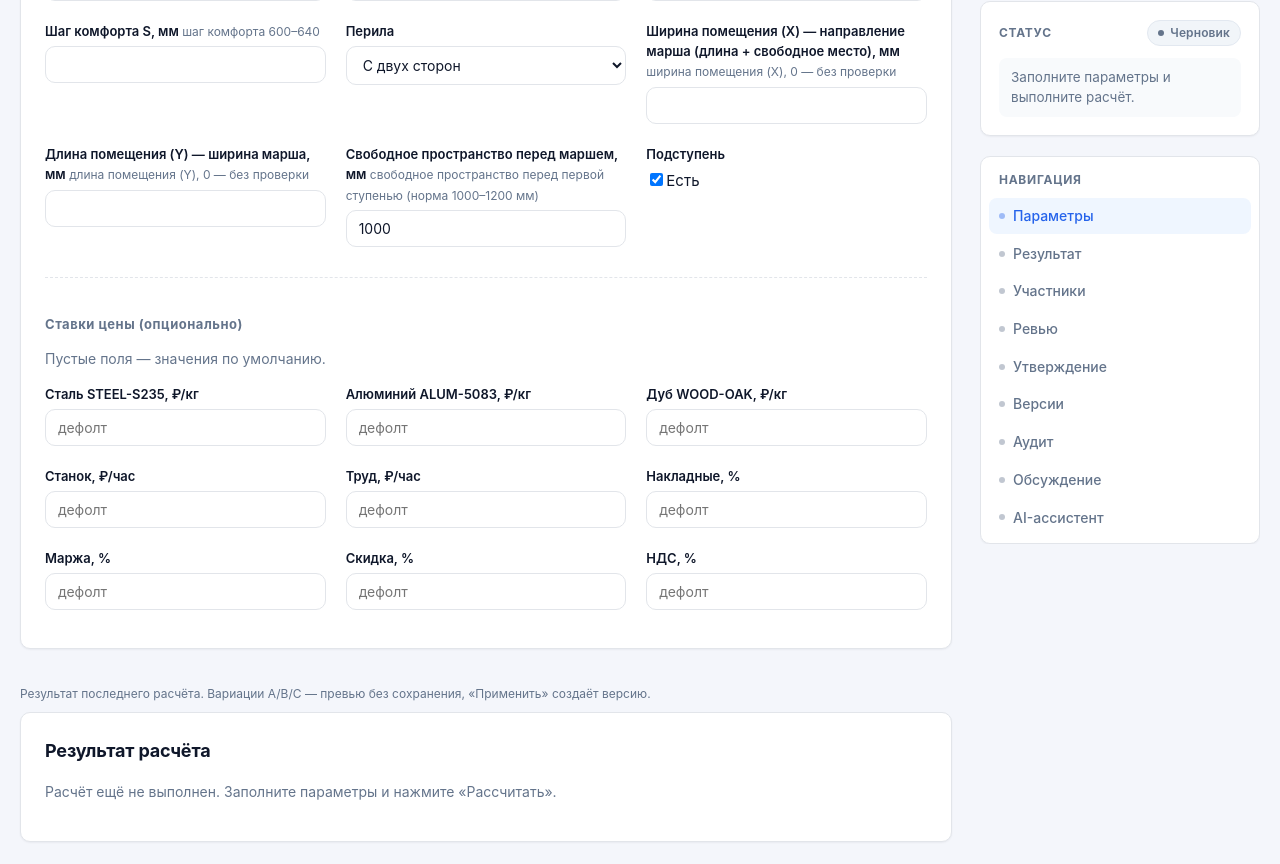
Scenario: ProjectDetail › включает rates в тело расчёта при заполненных ставках
This screenshot has width=1280, height=864.
(page scrolled)
Type "200" into the number field labelled "Сталь STEEL-S235, ₽/кг".
click(185, 428); type("200")  # box [45,409,326,446]
(page scrolled)
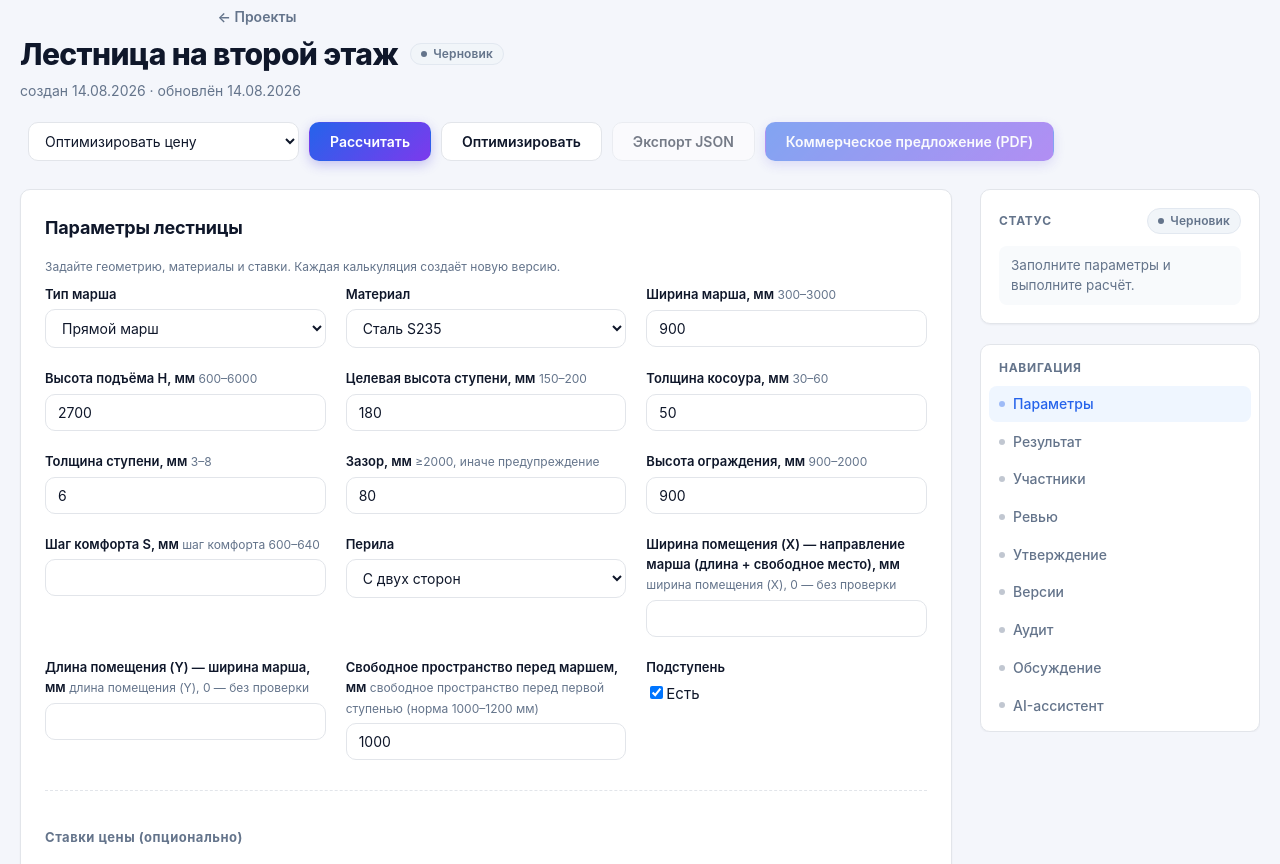
Click the button "Рассчитать".
click(370, 141)  # box [309,122,431,161]
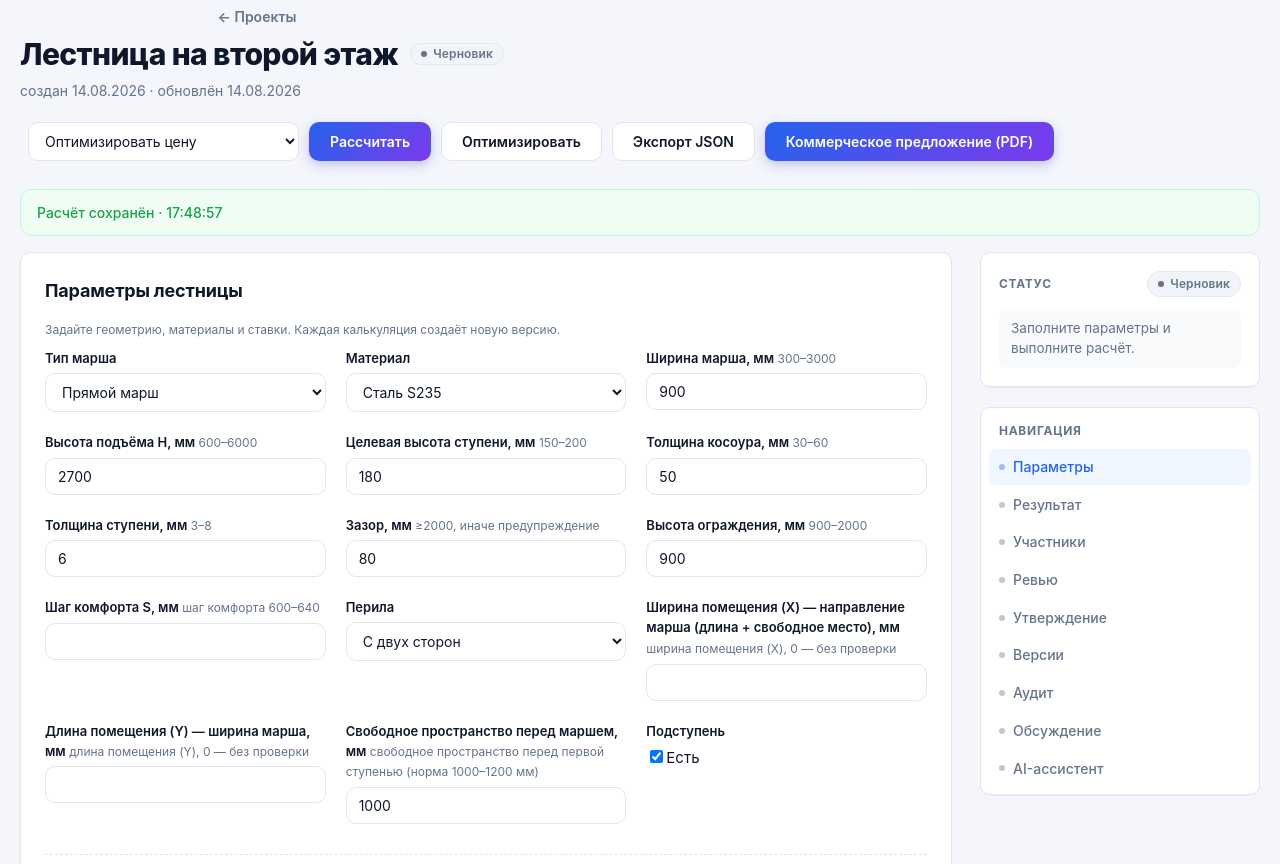
Now the text "Расчёт сохранён · 17:48:57" is shown, box [20,189,1260,236]
